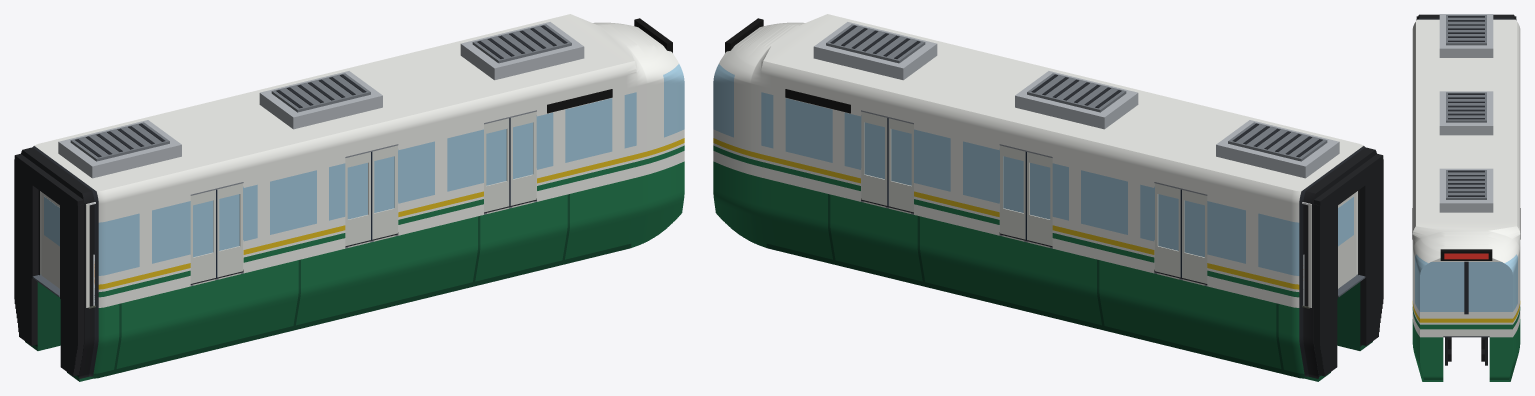
File: chongqing_front.obj
3 views of the same model, side by side, from view 1: azimuth 30°, elevation 25°; view 2: azimuth 150°, elevation 25°; view 3: azimuth 270°, elevation 25° (orthographic). The views are drawn at different scales.
Parts seen in each view (by area): view 1: SHELL, SHELL_roof, SHELL_diaphragm, EXTERNAL_DOOR_9_CG_DR2_TOGGLE_TL_-0.59_X, EXTERNAL_DOOR_3_CG_DR1_TOGGLE_TL_-0.59_X, EXTERNAL_DOOR_15_CG_DR3_TOGGLE_TL_-0.59_X, EXTERNAL_DOOR_16_CG_DR3_TOGGLE_TL_0.59_X, EXTERNAL_DOOR_10_CG_DR2_TOGGLE_TL_0.59_X, EXTERNAL_DOOR_4_CG_DR1_TOGGLE_TL_0.59_X, CONNECTING_DOOR_1_CG_CR_TOGGLE_TL_0.98_Z, SHELL_sign, SHELL_end; view 2: SHELL, SHELL_roof, SHELL_diaphragm, EXTERNAL_DOOR_12_CG_DL2_TOGGLE_TL_-0.59_X, EXTERNAL_DOOR_6_CG_DL1_TOGGLE_TL_-0.59_X, EXTERNAL_DOOR_18_CG_DL3_TOGGLE_TL_-0.59_X, EXTERNAL_DOOR_19_CG_DL3_TOGGLE_TL_0.59_X, EXTERNAL_DOOR_13_CG_DL2_TOGGLE_TL_0.59_X, EXTERNAL_DOOR_7_CG_DL1_TOGGLE_TL_0.59_X, CONNECTING_DOOR_1_CG_CR_TOGGLE_TL_0.98_Z, SHELL_sign, SHELL_end; view 3: SHELL, SHELL_roof, SHELL_front, BOGEY_FRONT.
Boxes of the visible parts, x1=… form: SHELL: x1=21, y1=14, x2=684, y2=381; SHELL_roof: x1=58, y1=22, x2=584, y2=178; SHELL_diaphragm: x1=14, y1=153, x2=83, y2=376; EXTERNAL_DOOR_9_CG_DR2_TOGGLE_TL_-0.59_X: x1=345, y1=152, x2=372, y2=246; EXTERNAL_DOOR_3_CG_DR1_TOGGLE_TL_-0.59_X: x1=190, y1=189, x2=217, y2=283; EXTERNAL_DOOR_15_CG_DR3_TOGGLE_TL_-0.59_X: x1=484, y1=118, x2=510, y2=212; EXTERNAL_DOOR_16_CG_DR3_TOGGLE_TL_0.59_X: x1=510, y1=111, x2=536, y2=205; EXTERNAL_DOOR_10_CG_DR2_TOGGLE_TL_0.59_X: x1=372, y1=145, x2=397, y2=239; EXTERNAL_DOOR_4_CG_DR1_TOGGLE_TL_0.59_X: x1=217, y1=183, x2=242, y2=277; CONNECTING_DOOR_1_CG_CR_TOGGLE_TL_0.98_Z: x1=41, y1=192, x2=59, y2=288; SHELL_sign: x1=547, y1=89, x2=612, y2=113; SHELL_end: x1=40, y1=191, x2=89, y2=307; SHELL: x1=713, y1=14, x2=1376, y2=381; SHELL_roof: x1=813, y1=22, x2=1339, y2=178; SHELL_diaphragm: x1=1314, y1=153, x2=1383, y2=376; EXTERNAL_DOOR_12_CG_DL2_TOGGLE_TL_-0.59_X: x1=1025, y1=152, x2=1052, y2=246; EXTERNAL_DOOR_6_CG_DL1_TOGGLE_TL_-0.59_X: x1=1180, y1=189, x2=1207, y2=283; EXTERNAL_DOOR_18_CG_DL3_TOGGLE_TL_-0.59_X: x1=887, y1=118, x2=913, y2=212; EXTERNAL_DOOR_19_CG_DL3_TOGGLE_TL_0.59_X: x1=861, y1=111, x2=887, y2=205; EXTERNAL_DOOR_13_CG_DL2_TOGGLE_TL_0.59_X: x1=1000, y1=145, x2=1025, y2=239; EXTERNAL_DOOR_7_CG_DL1_TOGGLE_TL_0.59_X: x1=1155, y1=183, x2=1180, y2=277; CONNECTING_DOOR_1_CG_CR_TOGGLE_TL_0.98_Z: x1=1338, y1=192, x2=1356, y2=288; SHELL_sign: x1=785, y1=89, x2=850, y2=113; SHELL_end: x1=1308, y1=191, x2=1357, y2=307; SHELL: x1=1412, y1=14, x2=1520, y2=381; SHELL_roof: x1=1439, y1=14, x2=1493, y2=212; SHELL_front: x1=1440, y1=249, x2=1492, y2=314; BOGEY_FRONT: x1=1445, y1=337, x2=1487, y2=365.
Size of the model in its own units: 14.99 by 4.81 by 2.92.
1 material, 1 textured.
